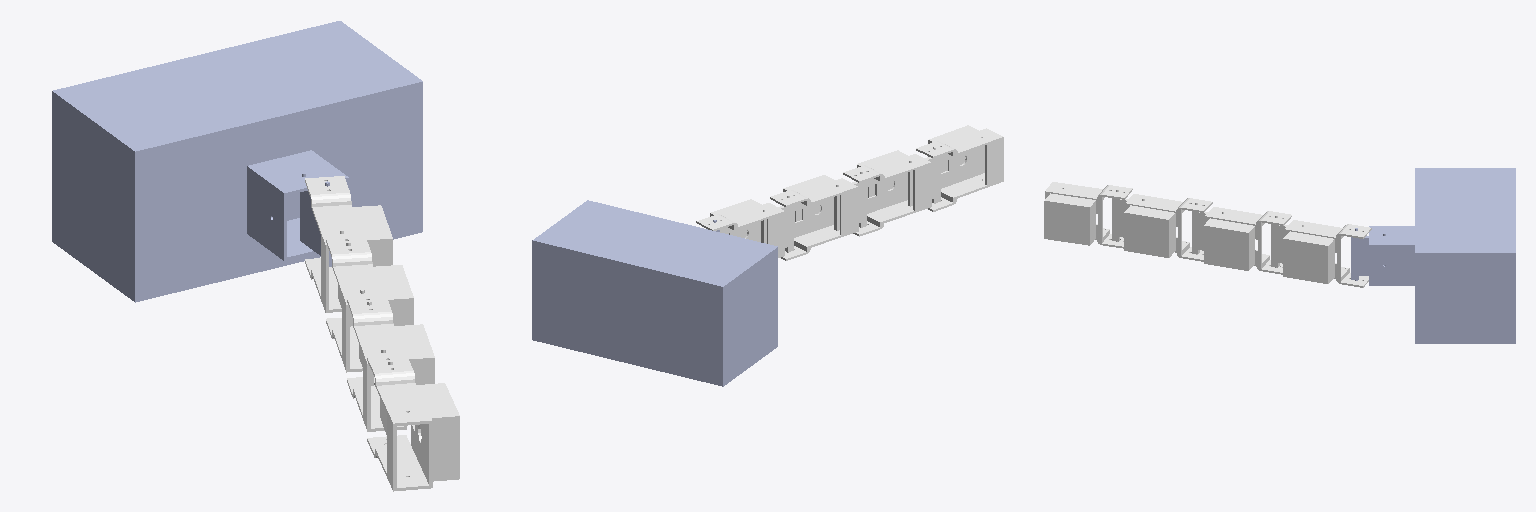
The robot description file, URDF, robot "装配体123456":
<?xml version="1.0" encoding="utf-8"?>
<!-- This URDF was automatically created by SolidWorks to URDF Exporter! Originally created by [author] ([email redacted]) 
     Commit Version: 1.6.0-4-g7f85cfe  Build Version: 1.6.7995.38578
     For more information, please see http://wiki.ros.org/sw_urdf_exporter -->
<robot
  name="装配体123456">
  <link
    name="base_link">
    <inertial>
      <origin
        xyz="0.0929824772796388 0.132416934830237 0.0994237041664709"
        rpy="0 0 0" />
      <mass
        value="2.0227814568609" />
      <inertia
        ixx="0.00342301359659103"
        ixy="-2.85193990350319E-19"
        ixz="-5.72231661845712E-19"
        iyy="0.00842182305506321"
        iyz="-1.243799898626E-19"
        izz="0.00834408658796838" />
    </inertial>
    <visual>
      <origin
        xyz="0 0 0"
        rpy="0 0 0" />
      <geometry>
        <mesh
          filename="package://装配体123456/meshes/base_link.STL" />
      </geometry>
      <material
        name="">
        <color
          rgba="0.792156862745098 0.819607843137255 0.933333333333333 1" />
      </material>
    </visual>
    <collision>
      <origin
        xyz="0 0 0"
        rpy="0 0 0" />
      <geometry>
        <mesh
          filename="package://装配体123456/meshes/base_link.STL" />
      </geometry>
    </collision>
  </link>
  <link
    name="link11">
    <inertial>
      <origin
        xyz="0.022735 0.01342 -0.022566"
        rpy="0 0 0" />
      <mass
        value="0.022388" />
      <inertia
        ixx="8.0701E-06"
        ixy="-1.336E-07"
        ixz="6.6565E-08"
        iyy="1.5638E-05"
        iyz="8.026E-09"
        izz="9.8124E-06" />
    </inertial>
    <visual>
      <origin
        xyz="0 0 0"
        rpy="0 0 0" />
      <geometry>
        <mesh
          filename="package://装配体123456/meshes/link11.STL" />
      </geometry>
      <material
        name="">
        <color
          rgba="1 1 1 1" />
      </material>
    </visual>
    <collision>
      <origin
        xyz="0 0 0"
        rpy="0 0 0" />
      <geometry>
        <mesh
          filename="package://装配体123456/meshes/link11.STL" />
      </geometry>
    </collision>
  </link>
  <joint
    name="joint1"
    type="revolute">
    <origin
      xyz="0.05545 -0.26912 0.10967"
      rpy="3.1416 0 1.1959" />
    <parent
      link="base_link" />
    <child
      link="link11" />
    <axis
      xyz="0 0 0" />
    <limit
      lower="-3.14"
      upper="3.14"
      effort="100"
      velocity="1" />
  </joint>
  <link
    name="q1">
    <inertial>
      <origin
        xyz="-0.049713 0.0089553 -0.029857"
        rpy="0 0 0" />
      <mass
        value="0.036098" />
      <inertia
        ixx="6.2975E-06"
        ixy="-1.2668E-10"
        ixz="-1.2283E-21"
        iyy="1.2296E-05"
        iyz="-6.2585E-22"
        izz="7.9304E-06" />
    </inertial>
    <visual>
      <origin
        xyz="0 0 0"
        rpy="0 0 0" />
      <geometry>
        <mesh
          filename="package://装配体123456/meshes/q1.STL" />
      </geometry>
      <material
        name="">
        <color
          rgba="1 1 1 1" />
      </material>
    </visual>
    <collision>
      <origin
        xyz="0 0 0"
        rpy="0 0 0" />
      <geometry>
        <mesh
          filename="package://装配体123456/meshes/q1.STL" />
      </geometry>
    </collision>
  </link>
  <joint
    name="0"
    type="fixed">
    <origin
      xyz="-0.019792 0.042 0.0072325"
      rpy="0 0 -3.1416" />
    <parent
      link="link11" />
    <child
      link="q1" />
    <axis
      xyz="0 0 0" />
  </joint>
  <link
    name="link22">
    <inertial>
      <origin
        xyz="0.0227348235433388 0.0134201558793774 -0.0225656345104885"
        rpy="0 0 0" />
      <mass
        value="0.0223876958999854" />
      <inertia
        ixx="8.07010464456517E-06"
        ixy="-1.33597150798119E-07"
        ixz="6.65648618840538E-08"
        iyy="1.56381969037816E-05"
        iyz="8.02600150685661E-09"
        izz="9.81236899765543E-06" />
    </inertial>
    <visual>
      <origin
        xyz="0 0 0"
        rpy="0 0 0" />
      <geometry>
        <mesh
          filename="package://装配体123456/meshes/link22.STL" />
      </geometry>
      <material
        name="">
        <color
          rgba="1 1 1 1" />
      </material>
    </visual>
    <collision>
      <origin
        xyz="0 0 0"
        rpy="0 0 0" />
      <geometry>
        <mesh
          filename="package://装配体123456/meshes/link22.STL" />
      </geometry>
    </collision>
  </link>
  <joint
    name="joint2"
    type="revolute">
    <origin
      xyz="-0.085 0 0.00025"
      rpy="0 0 0" />
    <parent
      link="link11" />
    <child
      link="link22" />
    <axis
      xyz="0 0 0" />
    <limit
      lower="-3.14"
      upper="3.14"
      effort="100"
      velocity="1" />
  </joint>
  <link
    name="q2">
    <inertial>
      <origin
        xyz="-0.0497134368143054 0.00895534842083825 -0.0298574943306804"
        rpy="0 0 0" />
      <mass
        value="0.0360983706758384" />
      <inertia
        ixx="6.29746195864372E-06"
        ixy="-1.26676470508592E-10"
        ixz="2.58866381147111E-22"
        iyy="1.22959077376187E-05"
        iyz="1.28797575273635E-21"
        izz="7.93042079351711E-06" />
    </inertial>
    <visual>
      <origin
        xyz="0 0 0"
        rpy="0 0 0" />
      <geometry>
        <mesh
          filename="package://装配体123456/meshes/q2.STL" />
      </geometry>
      <material
        name="">
        <color
          rgba="1 1 1 1" />
      </material>
    </visual>
    <collision>
      <origin
        xyz="0 0 0"
        rpy="0 0 0" />
      <geometry>
        <mesh
          filename="package://装配体123456/meshes/q2.STL" />
      </geometry>
    </collision>
  </link>
  <joint
    name="0"
    type="fixed">
    <origin
      xyz="-0.0197920275820724 0.041999999999987 0.0072324943306806"
      rpy="0 0 3.14159265358979" />
    <parent
      link="link22" />
    <child
      link="q2" />
    <axis
      xyz="0 0 0" />
  </joint>
  <link
    name="link33">
    <inertial>
      <origin
        xyz="0.0227348235433388 0.0134201558793772 -0.0225656345104887"
        rpy="0 0 0" />
      <mass
        value="0.0223876958999854" />
      <inertia
        ixx="8.07010464456518E-06"
        ixy="-1.33597150798119E-07"
        ixz="6.65648618840536E-08"
        iyy="1.56381969037816E-05"
        iyz="8.02600150679975E-09"
        izz="9.81236899765545E-06" />
    </inertial>
    <visual>
      <origin
        xyz="0 0 0"
        rpy="0 0 0" />
      <geometry>
        <mesh
          filename="package://装配体123456/meshes/link33.STL" />
      </geometry>
      <material
        name="">
        <color
          rgba="1 1 1 1" />
      </material>
    </visual>
    <collision>
      <origin
        xyz="0 0 0"
        rpy="0 0 0" />
      <geometry>
        <mesh
          filename="package://装配体123456/meshes/link33.STL" />
      </geometry>
    </collision>
  </link>
  <joint
    name="joint3"
    type="revolute">
    <origin
      xyz="-0.085 0 0.00025"
      rpy="0 0 0" />
    <parent
      link="link22" />
    <child
      link="link33" />
    <axis
      xyz="0 0 0" />
    <limit
      lower="-3.14"
      upper="3.14"
      effort="100"
      velocity="1" />
  </joint>
  <link
    name="q3">
    <inertial>
      <origin
        xyz="-0.0497134368142956 0.00895534842085119 -0.0298574943306803"
        rpy="0 0 0" />
      <mass
        value="0.0360983706758384" />
      <inertia
        ixx="6.29746195864373E-06"
        ixy="-1.26676470502451E-10"
        ixz="2.31517534298367E-21"
        iyy="1.22959077376187E-05"
        iyz="-6.32955713172865E-22"
        izz="7.9304207935171E-06" />
    </inertial>
    <visual>
      <origin
        xyz="0 0 0"
        rpy="0 0 0" />
      <geometry>
        <mesh
          filename="package://装配体123456/meshes/q3.STL" />
      </geometry>
      <material
        name="">
        <color
          rgba="1 1 1 1" />
      </material>
    </visual>
    <collision>
      <origin
        xyz="0 0 0"
        rpy="0 0 0" />
      <geometry>
        <mesh
          filename="package://装配体123456/meshes/q3.STL" />
      </geometry>
    </collision>
  </link>
  <joint
    name="0"
    type="fixed">
    <origin
      xyz="-0.0197920275820626 0.042 0.00723249433068028"
      rpy="0 0 3.14159265358979" />
    <parent
      link="link33" />
    <child
      link="q3" />
    <axis
      xyz="0 0 0" />
  </joint>
  <link
    name="link44">
    <inertial>
      <origin
        xyz="0.035461479313839 0.0141129848597041 -0.0225976545807054"
        rpy="0 0 0" />
      <mass
        value="0.0150469691309219" />
      <inertia
        ixx="6.86014906468923E-06"
        ixy="-1.33597150798132E-07"
        ixz="6.65648618840604E-08"
        iyy="1.38357805482882E-05"
        iyz="8.02600150677876E-09"
        izz="9.20049416998934E-06" />
    </inertial>
    <visual>
      <origin
        xyz="0 0 0"
        rpy="0 0 0" />
      <geometry>
        <mesh
          filename="package://装配体123456/meshes/link44.STL" />
      </geometry>
      <material
        name="">
        <color
          rgba="1 1 1 1" />
      </material>
    </visual>
    <collision>
      <origin
        xyz="0 0 0"
        rpy="0 0 0" />
      <geometry>
        <mesh
          filename="package://装配体123456/meshes/link44.STL" />
      </geometry>
    </collision>
  </link>
  <joint
    name="joint4"
    type="revolute">
    <origin
      xyz="-0.085424 0.002904 0.00025"
      rpy="0 0 -0.040209" />
    <parent
      link="link33" />
    <child
      link="link44" />
    <axis
      xyz="0 0 0" />
    <limit
      lower="-3.14"
      upper="3.14"
      effort="100"
      velocity="1" />
  </joint>
  <link
    name="q4">
    <inertial>
      <origin
        xyz="-0.0497134368142956 0.00895534842085108 -0.0298574943306804"
        rpy="0 0 0" />
      <mass
        value="0.0360983706758384" />
      <inertia
        ixx="6.29746195864372E-06"
        ixy="-1.26676470520662E-10"
        ixz="2.56226396942615E-22"
        iyy="1.22959077376187E-05"
        iyz="4.14675524388666E-21"
        izz="7.93042079351711E-06" />
    </inertial>
    <visual>
      <origin
        xyz="0 0 0"
        rpy="0 0 0" />
      <geometry>
        <mesh
          filename="package://装配体123456/meshes/q4.STL" />
      </geometry>
      <material
        name="">
        <color
          rgba="1 1 1 1" />
      </material>
    </visual>
    <collision>
      <origin
        xyz="0 0 0"
        rpy="0 0 0" />
      <geometry>
        <mesh
          filename="package://装配体123456/meshes/q4.STL" />
      </geometry>
    </collision>
  </link>
  <joint
    name="0"
    type="fixed">
    <origin
      xyz="-0.019792 0.042 0.0072325"
      rpy="0 0 3.1416" />
    <parent
      link="link44" />
    <child
      link="q4" />
    <axis
      xyz="0 0 0" />
  </joint>
</robot>

--- Render facts (derived) ---
3 views of the same robot in one strip: view 1: azimuth 30°, elevation 25°; view 2: azimuth 150°, elevation 25°; view 3: azimuth 270°, elevation 25° (orthographic).
Model 装配体123456 with 9 links and 8 joints (4 revolute, 4 fixed), rooted at base_link, posed every joint at zero.
Visible links, largest first — view 1: base_link, link44, link33, link11, link22, q4, q2, q1, q3; view 2: base_link, link33, link22, link44, link11; view 3: base_link, q1, q3, q4, q2, link11, link22, link33, link44.
Boxes of the visible links, <box> form: base_link: <box>52,21,422,302</box>; link44: <box>367,354,432,491</box>; link33: <box>347,295,406,434</box>; link11: <box>305,176,362,326</box>; link22: <box>326,235,382,385</box>; q4: <box>417,383,459,481</box>; q2: <box>374,265,413,325</box>; q1: <box>353,205,392,266</box>; q3: <box>395,324,434,384</box>; base_link: <box>532,200,777,386</box>; link33: <box>843,146,940,236</box>; link22: <box>770,171,866,260</box>; link44: <box>916,128,1003,211</box>; link11: <box>696,195,793,257</box>; base_link: <box>1351,168,1515,343</box>; q1: <box>1283,231,1334,283</box>; q3: <box>1124,205,1175,257</box>; q4: <box>1044,193,1095,245</box>; q2: <box>1204,218,1254,270</box>; link11: <box>1271,215,1371,287</box>; link22: <box>1192,202,1291,274</box>; link33: <box>1112,189,1212,261</box>; link44: <box>1045,182,1132,248</box>.
Bounding box of the posed robot: 0.2284 × 0.4676 × 0.1 m (x, y, z).
Meshes: 9 distinct files referenced, 9 mesh visuals loaded (9 binary STL).
